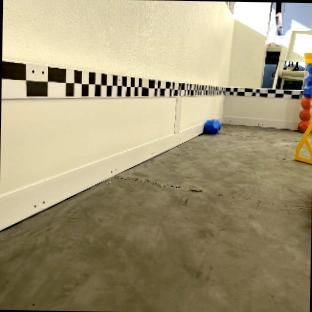V5_BLUE: (203, 118, 221, 134)
V5_RED: (298, 95, 312, 131)
